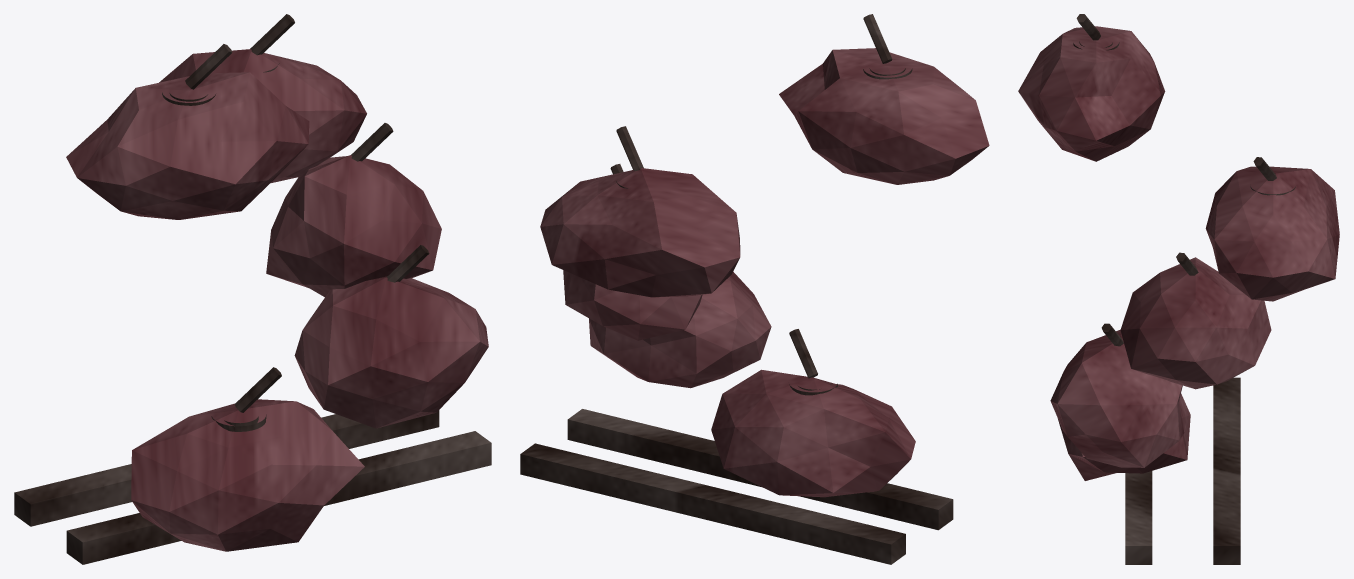
The model's file is 0818_sack_stack_18.glb.
The picture shows the model from 3 angles, left to right: view 1: azimuth 30°, elevation 25°; view 2: azimuth 150°, elevation 25°; view 3: azimuth 270°, elevation 25°; orthographic projection. The views are drawn at different scales.
Parts seen in each view (by area): view 1: cloth, wood_dark; view 2: cloth, wood_dark; view 3: cloth, wood_dark.
Boxes of the visible parts, <box> form: cloth: <box>66,49,488,551</box>; wood_dark: <box>14,14,491,564</box>; cloth: <box>540,48,989,497</box>; wood_dark: <box>520,14,953,564</box>; cloth: <box>1018,26,1339,480</box>; wood_dark: <box>1073,14,1295,564</box>.
Size of the model in its own units: 2.01 by 2.3 by 1.53.
2 materials, 2 textured.
